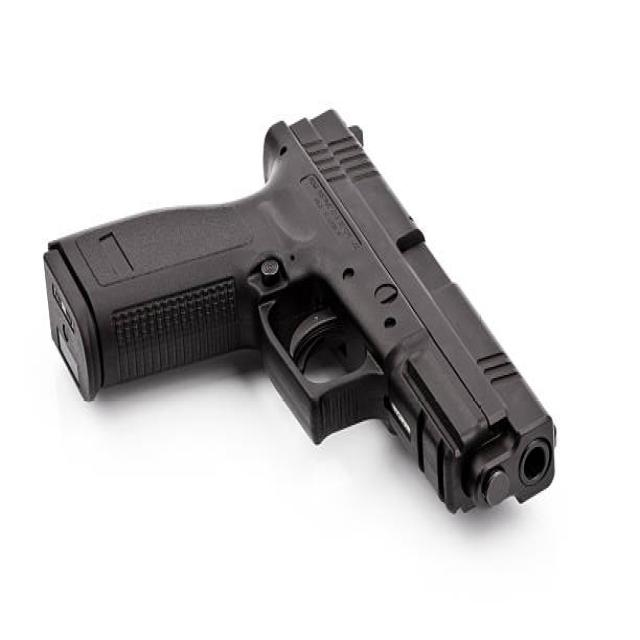pistol: (37, 102, 565, 530)
